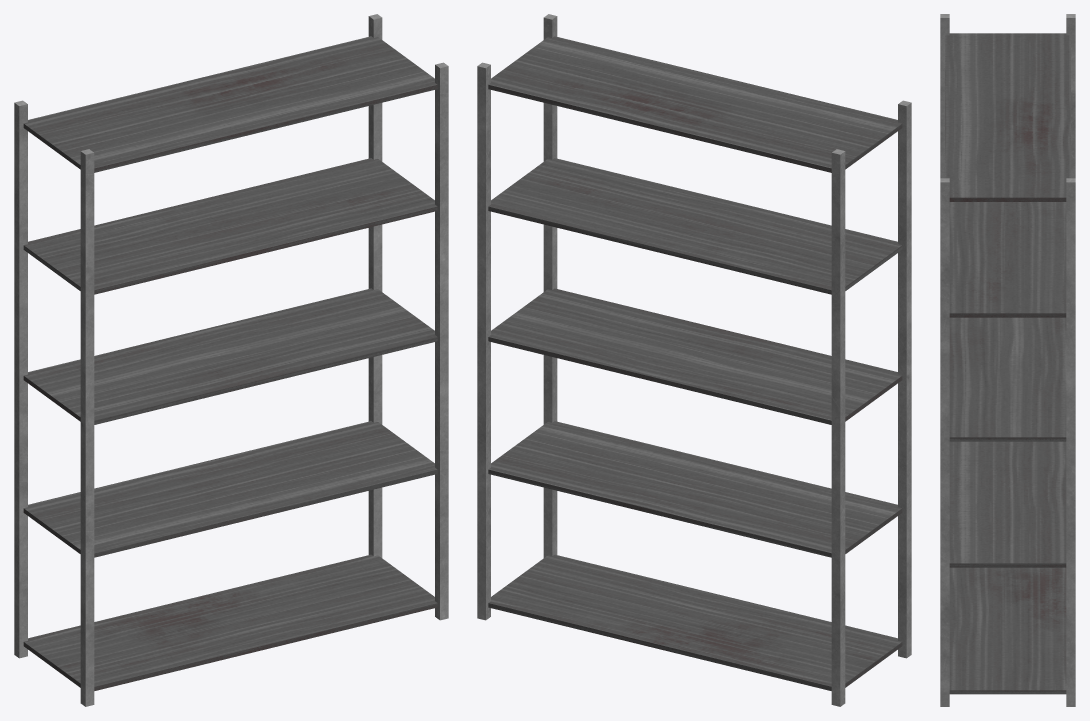
Rendered from SM_LargeShelf_01.fbx.
3 renders of one model, left to right at view 1: azimuth 30°, elevation 25°; view 2: azimuth 150°, elevation 25°; view 3: azimuth 270°, elevation 25°, orthographic. The views are drawn at different scales.
Visible parts, largest first — view 1: SM_LargeShelf_01; view 2: SM_LargeShelf_01; view 3: SM_LargeShelf_01.
Part boxes in pixels (x1=…): SM_LargeShelf_01: x1=14, y1=14, x2=448, y2=706; SM_LargeShelf_01: x1=477, y1=14, x2=911, y2=706; SM_LargeShelf_01: x1=940, y1=14, x2=1075, y2=706.
Bounding box in the file's own units: 136 × 198 × 46.32.
